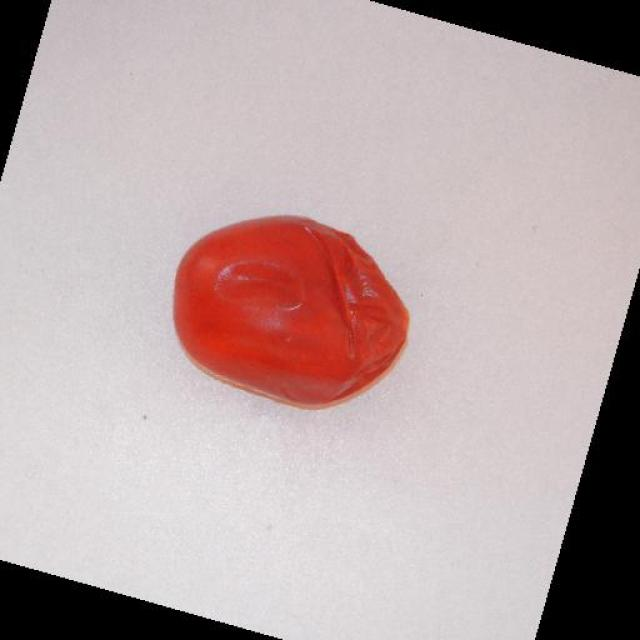Stale_tomato: (168, 216, 414, 402)
